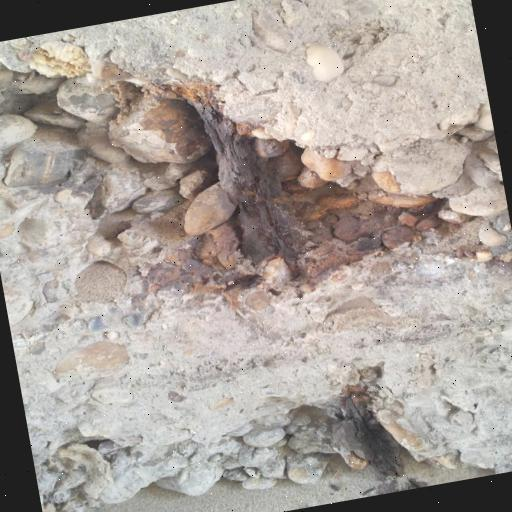spalling: (89, 57, 483, 311)
